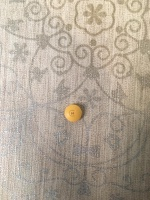Nurofen: (62, 103, 85, 122)
